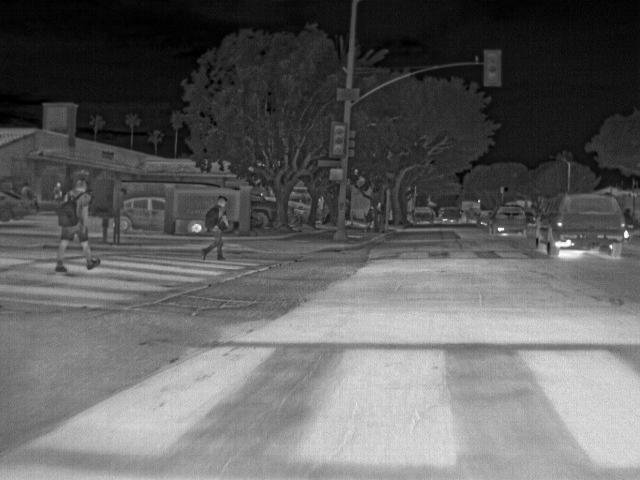car: (532, 191, 626, 257), (120, 196, 165, 231), (1, 189, 42, 223), (490, 204, 529, 236), (122, 180, 174, 195), (249, 199, 277, 226), (412, 205, 435, 223), (288, 203, 304, 224), (440, 205, 458, 223), (460, 199, 481, 210), (466, 209, 481, 224), (479, 210, 492, 225)
person: (57, 177, 99, 275), (203, 195, 229, 261), (53, 180, 66, 200), (20, 179, 33, 198), (376, 201, 384, 220)
